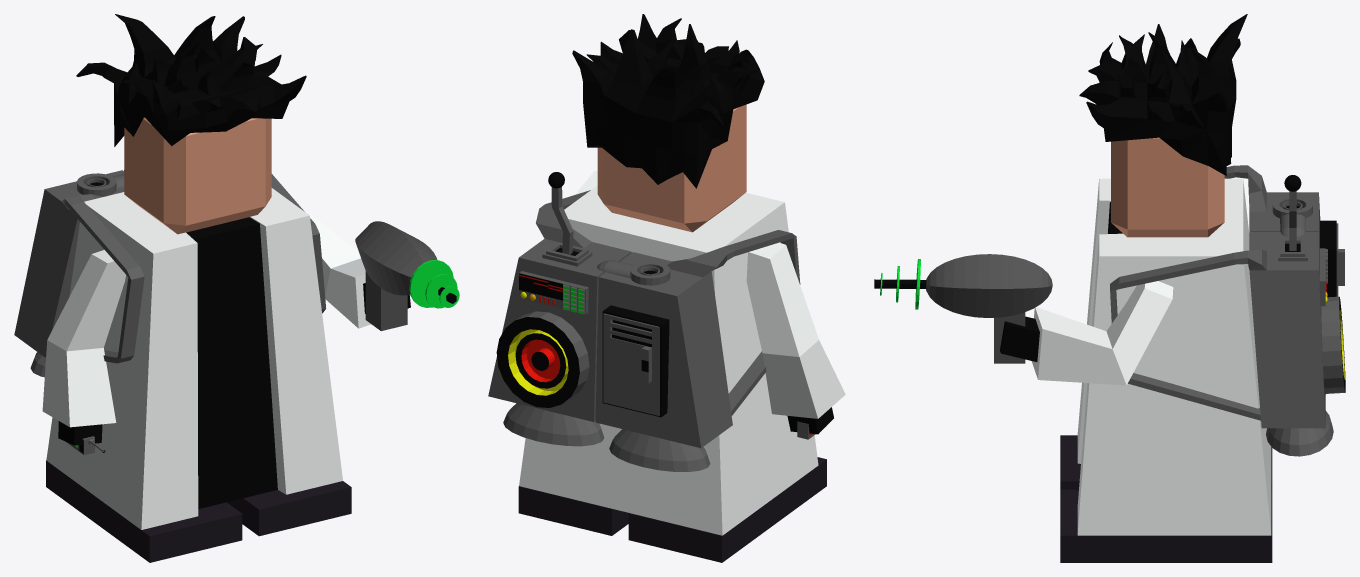
The model's file is Enemy4Model.fbx.
The picture shows the model from 3 angles, left to right: view 1: azimuth 30°, elevation 25°; view 2: azimuth 150°, elevation 25°; view 3: azimuth 270°, elevation 25°; orthographic projection.
Parts seen in each view (by area): view 1: Cube, Cube.002, Cube.004, Cube.003, Cube.008, Cube.006, Cube.001, Cube.007, Cube.005; view 2: Cube.008, Cube, Cube.004, Cube.006, Cube.003, Cube.001; view 3: Cube, Cube.008, Cube.004, Cube.005, Cube.003, Cube.007, Cube.001.
Boxes of the visible parts, left/top/right/bottom form: Cube: left=46, top=188, right=342, bottom=529; Cube.002: left=186, top=217, right=277, bottom=508; Cube.004: left=76, top=14, right=306, bottom=146; Cube.003: left=124, top=117, right=271, bottom=234; Cube.008: left=14, top=170, right=326, bottom=377; Cube.006: left=42, top=250, right=125, bottom=455; Cube.001: left=46, top=460, right=351, bottom=562; Cube.007: left=355, top=221, right=459, bottom=331; Cube.005: left=308, top=214, right=410, bottom=328; Cube.008: left=488, top=172, right=800, bottom=471; Cube: left=519, top=185, right=818, bottom=535; Cube.004: left=572, top=14, right=764, bottom=188; Cube.006: left=746, top=242, right=845, bottom=439; Cube.003: left=597, top=104, right=746, bottom=232; Cube.001: left=518, top=457, right=826, bottom=562; Cube: left=1077, top=178, right=1271, bottom=535; Cube.008: left=1110, top=165, right=1345, bottom=456; Cube.004: left=1079, top=14, right=1247, bottom=175; Cube.005: left=1000, top=281, right=1173, bottom=385; Cube.003: left=1111, top=137, right=1224, bottom=237; Cube.007: left=874, top=254, right=1052, bottom=363; Cube.001: left=1060, top=435, right=1272, bottom=562.
Bounding box in the file's own units: 288 × 443 × 397.
